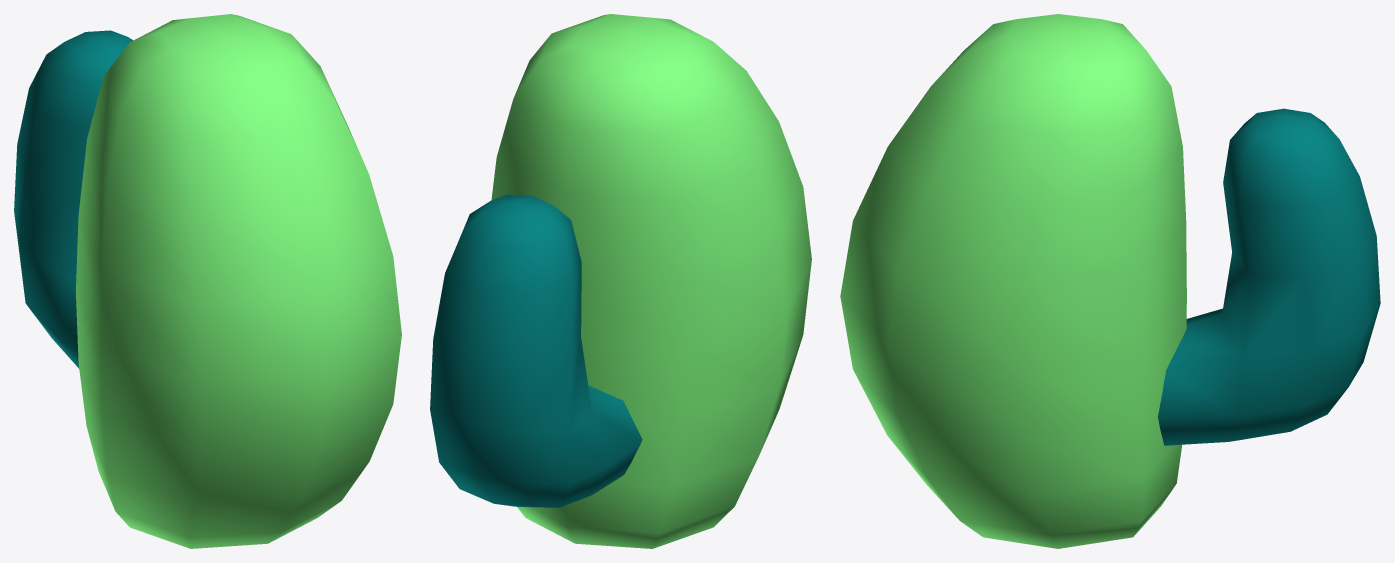
The model's file is Cactus02.fbx.
3 views of the same model, side by side, from view 1: azimuth 30°, elevation 25°; view 2: azimuth 150°, elevation 25°; view 3: azimuth 270°, elevation 25° (orthographic).
Parts seen in each view (by area): view 1: Low_Cactus02; view 2: Low_Cactus02; view 3: Low_Cactus02.
Part boxes in pixels (x1=…): Low_Cactus02: x1=14, y1=14, x2=401, y2=548; Low_Cactus02: x1=430, y1=14, x2=811, y2=548; Low_Cactus02: x1=840, y1=14, x2=1380, y2=548.
Bounding box in the file's own units: 286 × 478 × 483.
